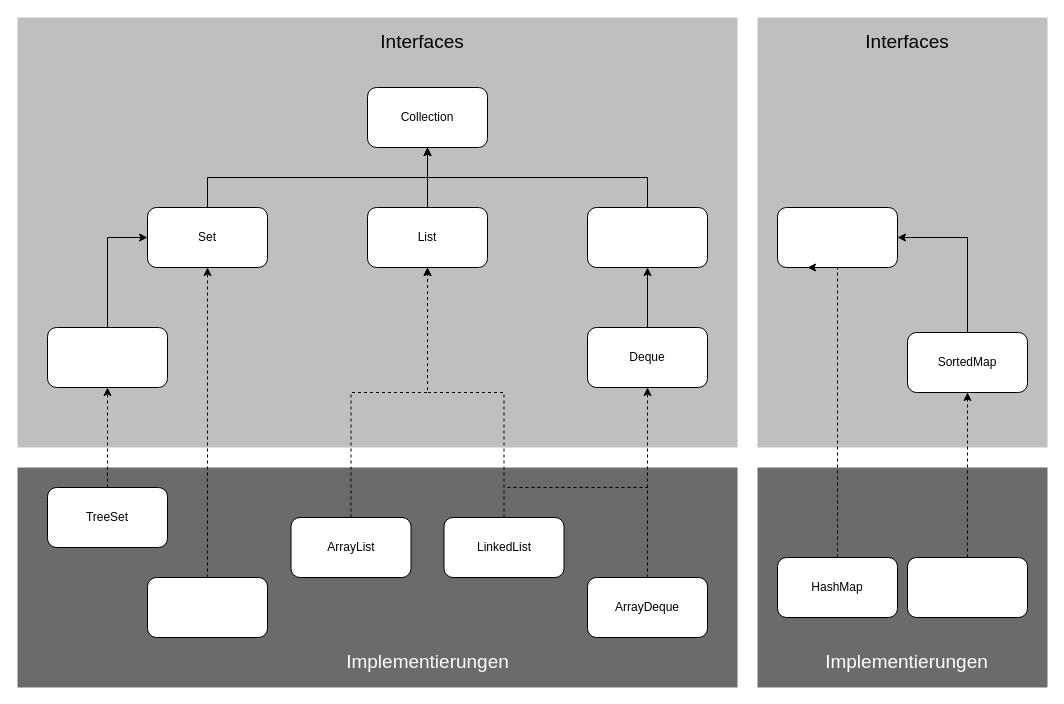
This 1064x704 diagram has some shape labels left out. The box of each missing label's shape, as (x1, y1, x2, y2) in pixels:
HashSet: (146, 576, 268, 638)
Map: (776, 206, 898, 268)
Queue: (586, 206, 708, 268)
SortedSet: (46, 326, 168, 388)
TreeMap: (906, 556, 1028, 618)
